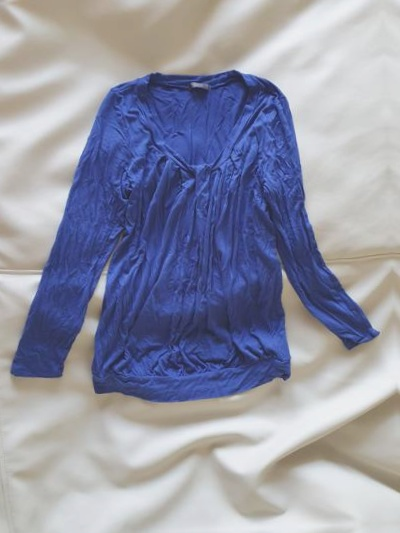Dress: (2, 72, 384, 408), (398, 57, 400, 393)
